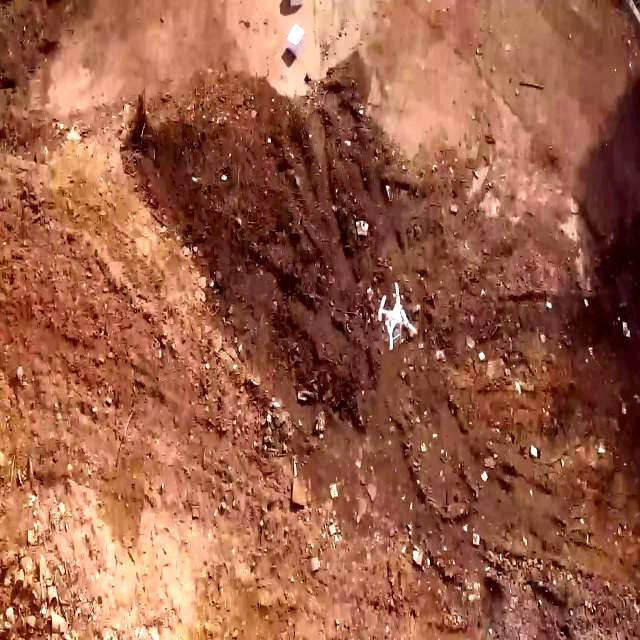drone: (381, 282, 415, 352)
